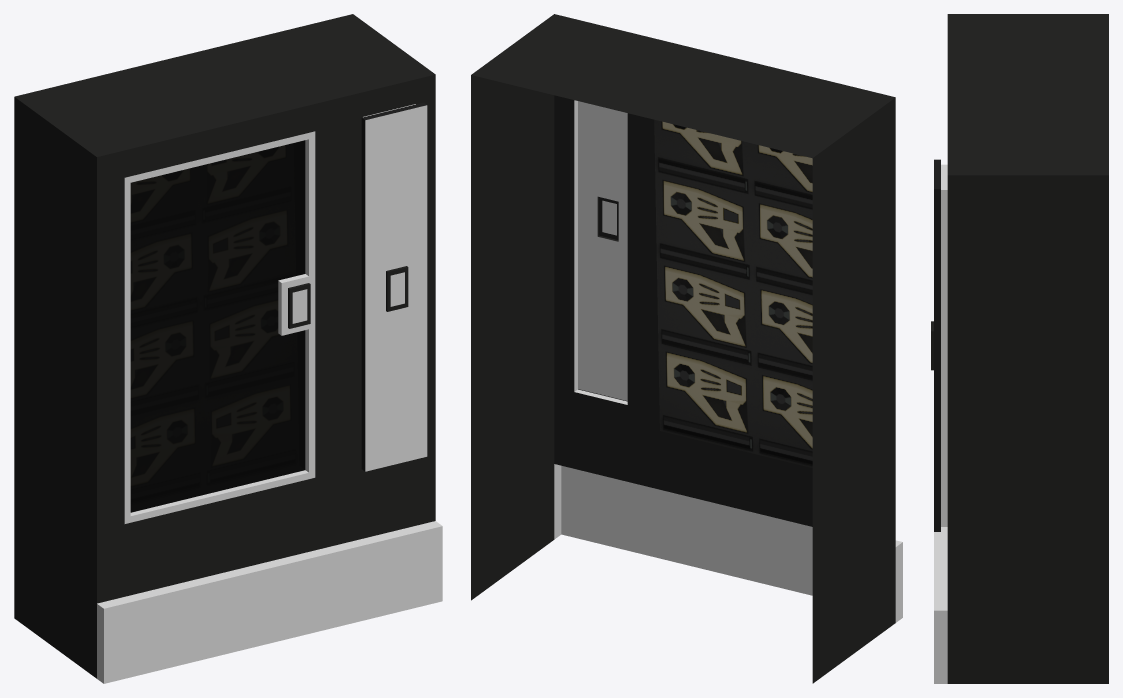
File: Gun_Cabinet.fbx
The picture shows the model from 3 angles, left to right: view 1: azimuth 30°, elevation 25°; view 2: azimuth 150°, elevation 25°; view 3: azimuth 270°, elevation 25°; orthographic projection. The views are drawn at different scales.
Parts seen in each view (by area): view 1: Gun_Cabinet; view 2: Gun_Cabinet; view 3: Gun_Cabinet.
Boxes of the visible parts, <box> form: Gun_Cabinet: <box>14,14,442,683</box>; Gun_Cabinet: <box>471,14,902,683</box>; Gun_Cabinet: <box>931,14,1108,683</box>.
Bounding box in the file's own units: 2.26 × 1.05 × 3.32.
